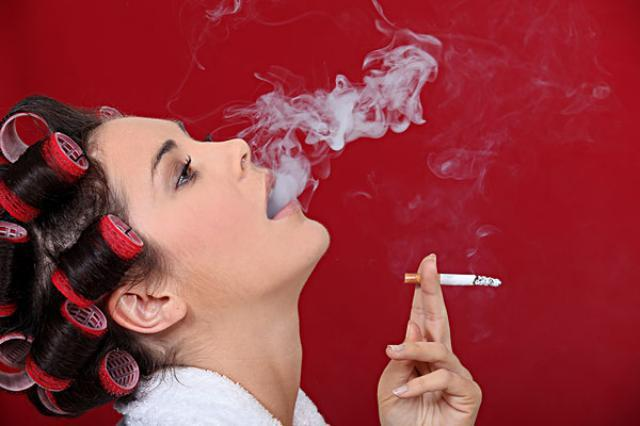SafeDriving: (166, 153, 204, 196)
Smoking: (401, 266, 502, 292)
